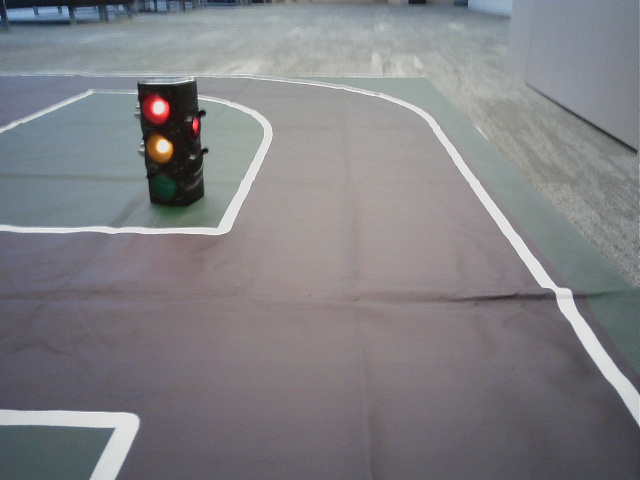red: (141, 87, 178, 203)
